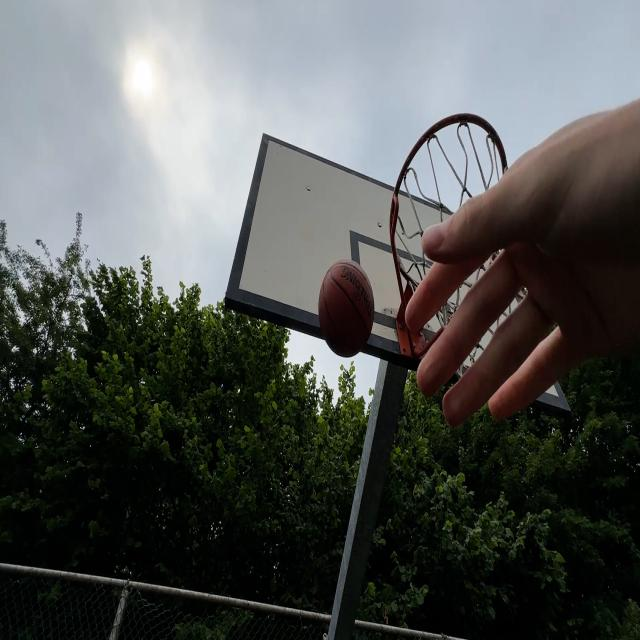rebound_hit: (320, 262, 375, 360)
